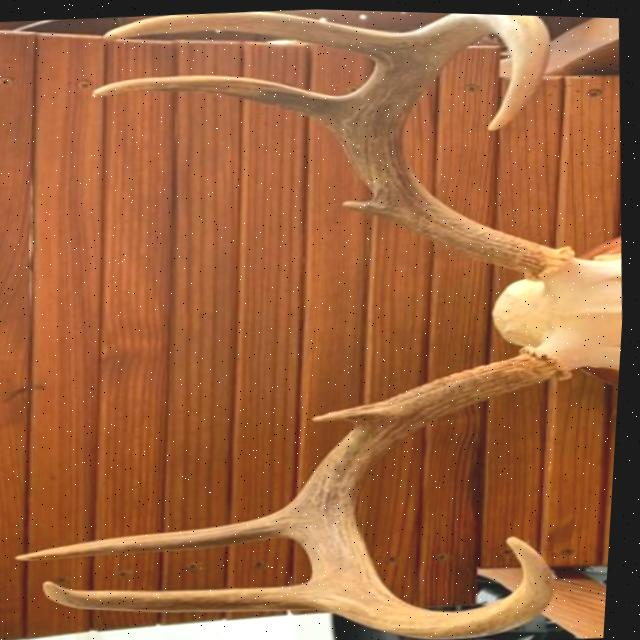L-F: (285, 342, 573, 637)
L-G1: (314, 397, 390, 425)
L-G2: (19, 509, 295, 561)
L-G3: (46, 580, 327, 611)
R-F: (328, 10, 577, 277)
R-G1: (342, 195, 390, 215)
R-G2: (89, 73, 342, 121)
R-G3: (101, 9, 404, 57)
